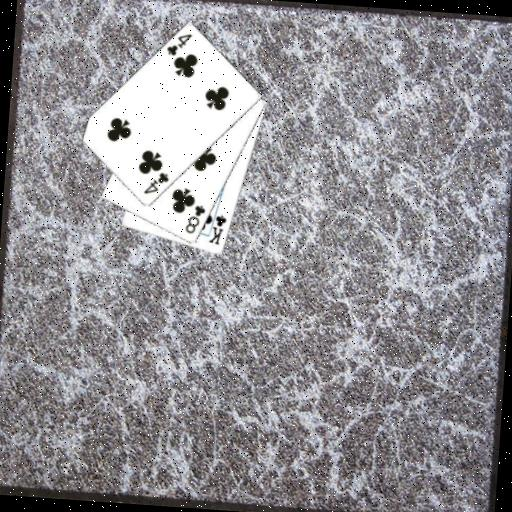4C: (163, 30, 194, 59), (141, 169, 171, 198)
8C: (182, 201, 207, 236)
KC: (204, 207, 229, 247)
